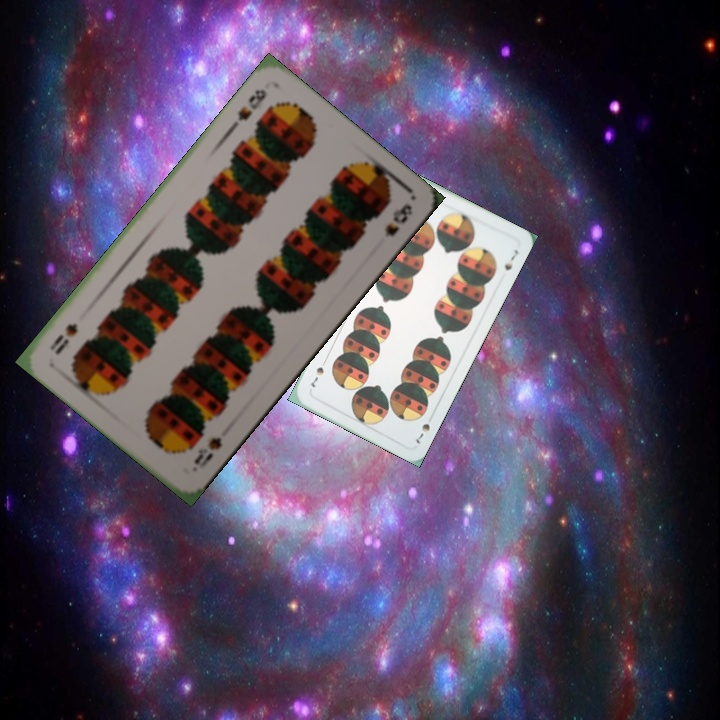S7: (411, 419, 433, 447)
S8: (233, 85, 269, 124), (189, 433, 225, 471)
